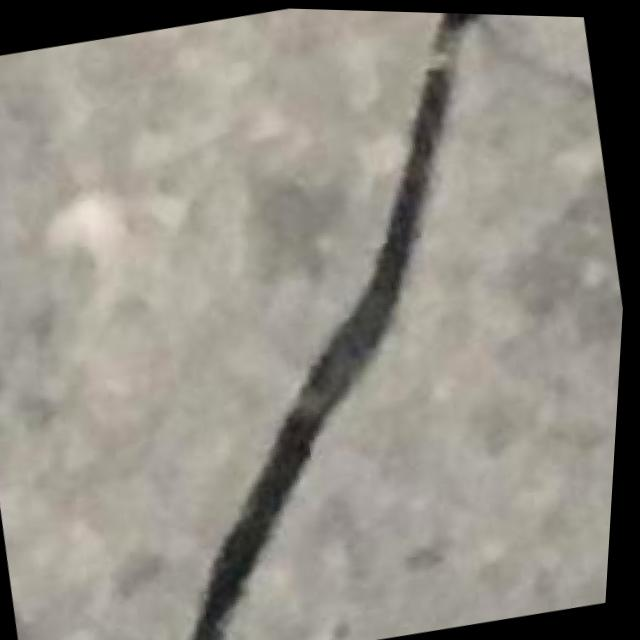Crack: (52, 2, 640, 640)
